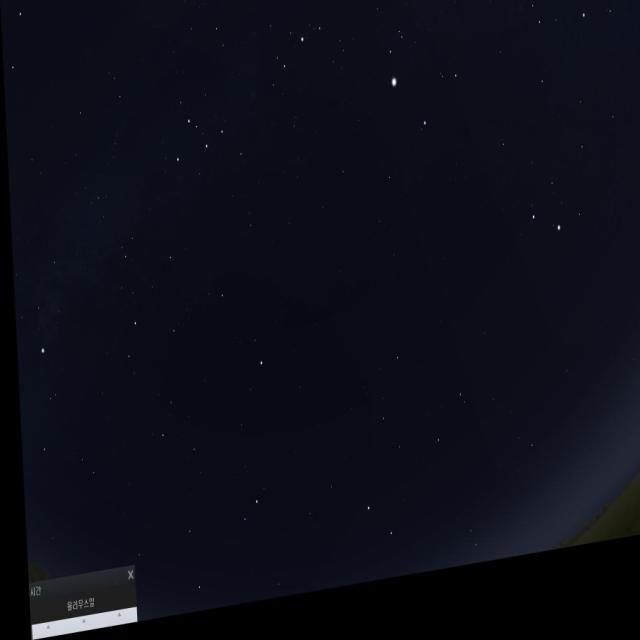cassiopeia: (165, 94, 247, 198)
